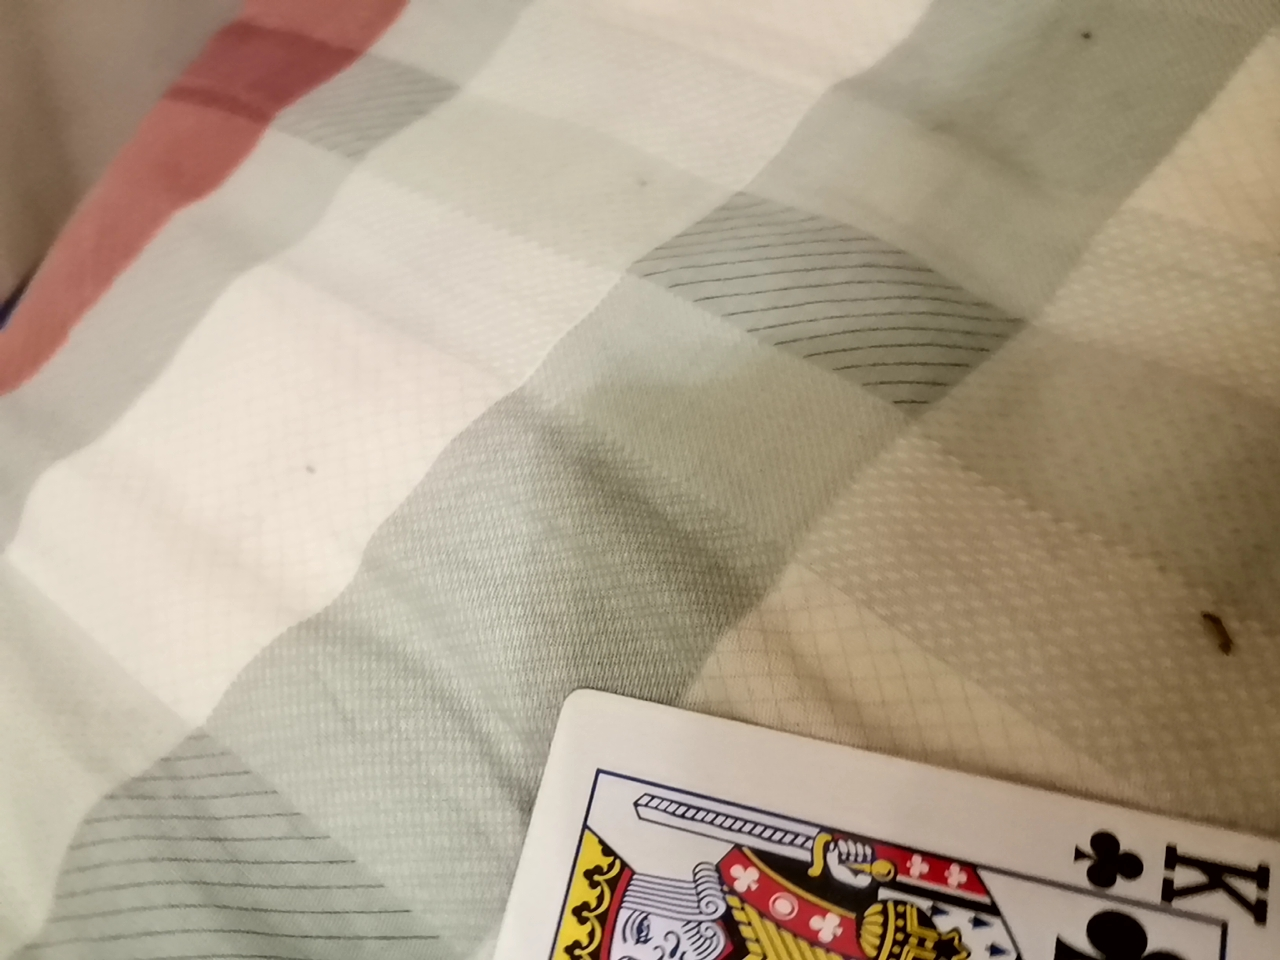mh k: (451, 694, 1268, 960)
